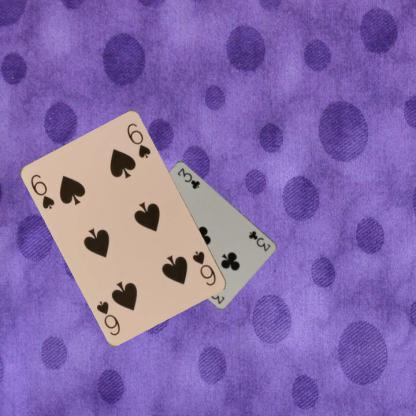3c: (246, 228, 272, 253)
6s: (190, 248, 218, 288), (28, 172, 57, 210)
